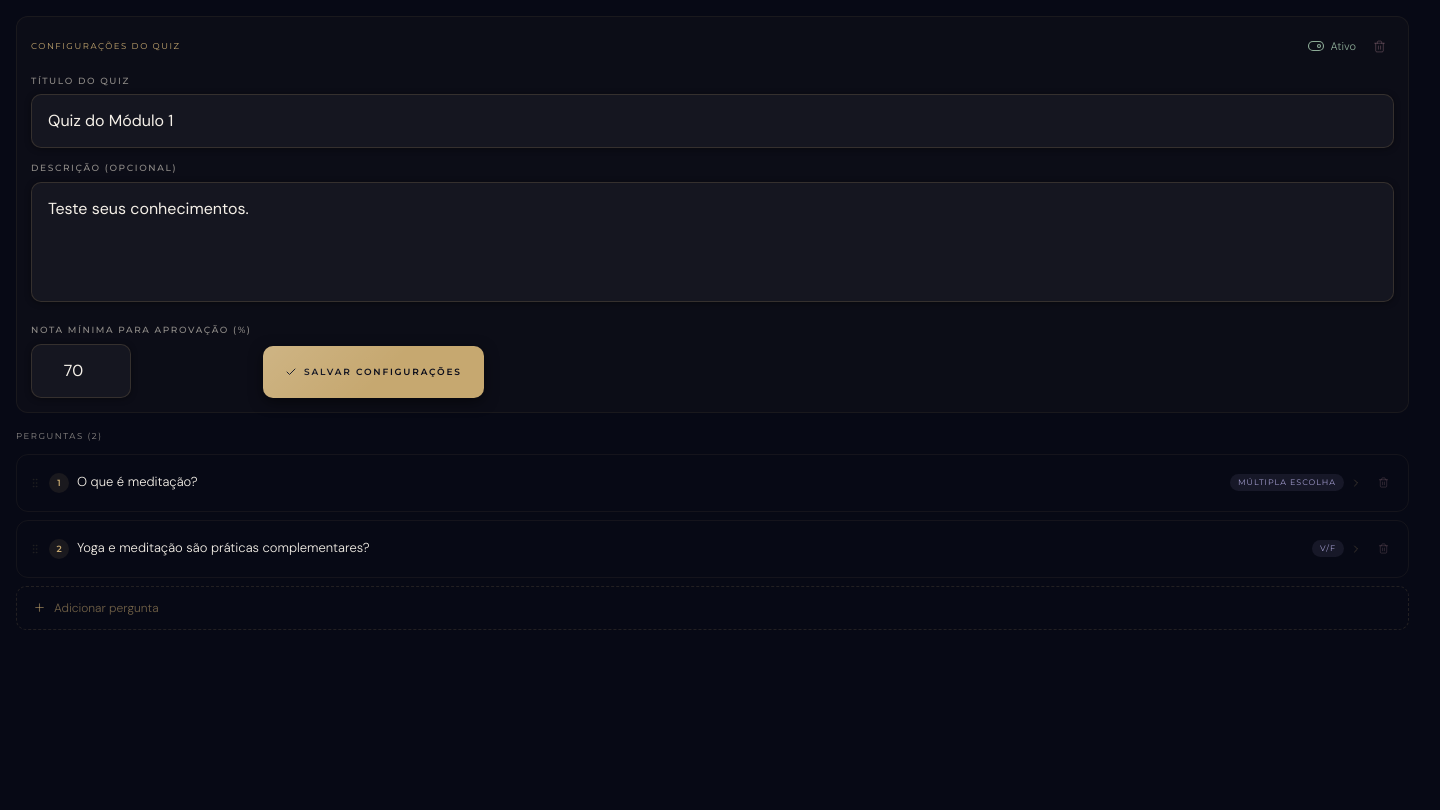
QuizEditor — add question › cancel button hides the add-question form
Click the button with test id "add-question-btn" at (106, 608), box [16,586,1409,630]
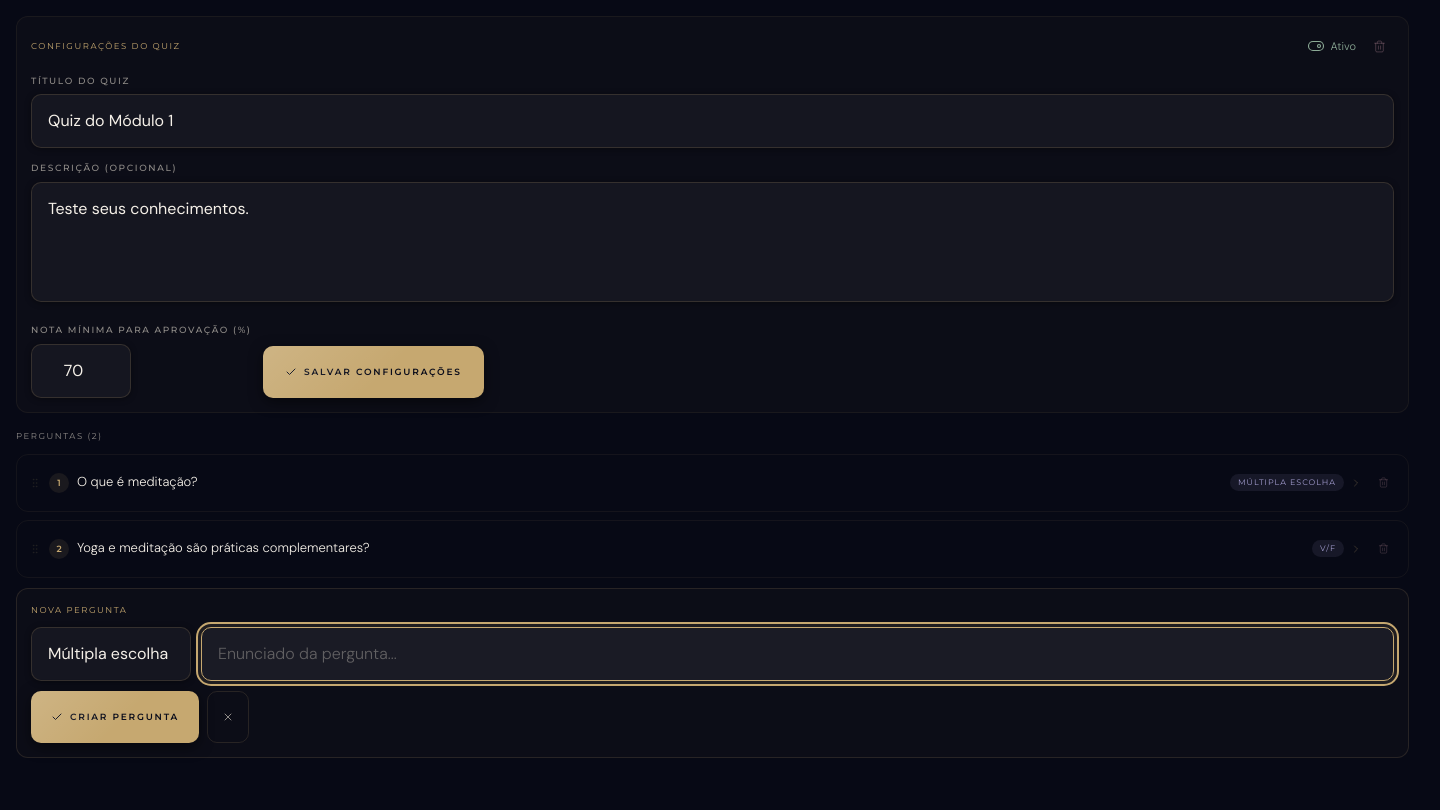
Check: the button with test id "cancel-question-btn" is shown
Click the button with test id "cancel-question-btn" at (228, 717), box [207,691,249,743]
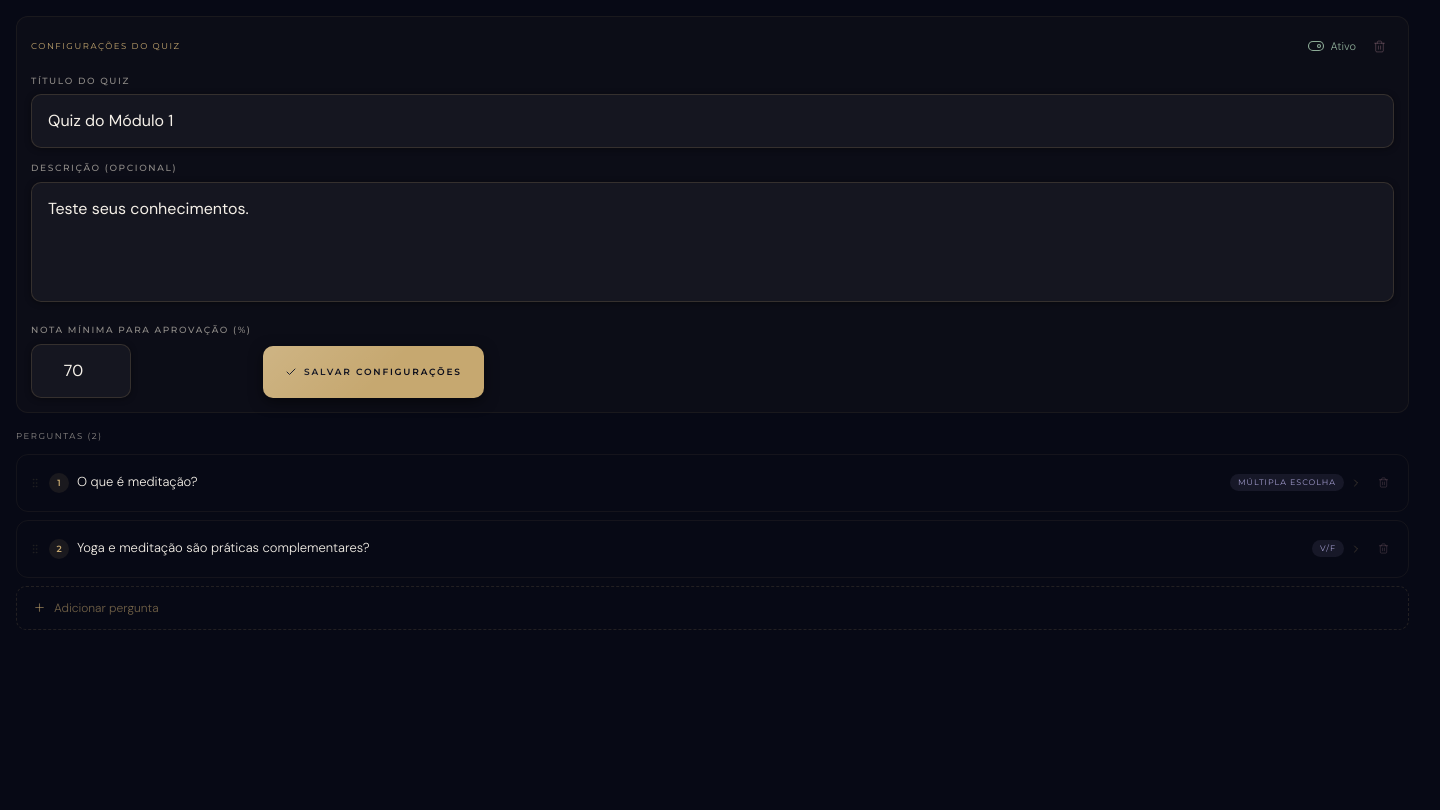
Check: the button with test id "cancel-question-btn" is gone
Check: the button with test id "add-question-btn" is shown, box [16,586,1409,630]
